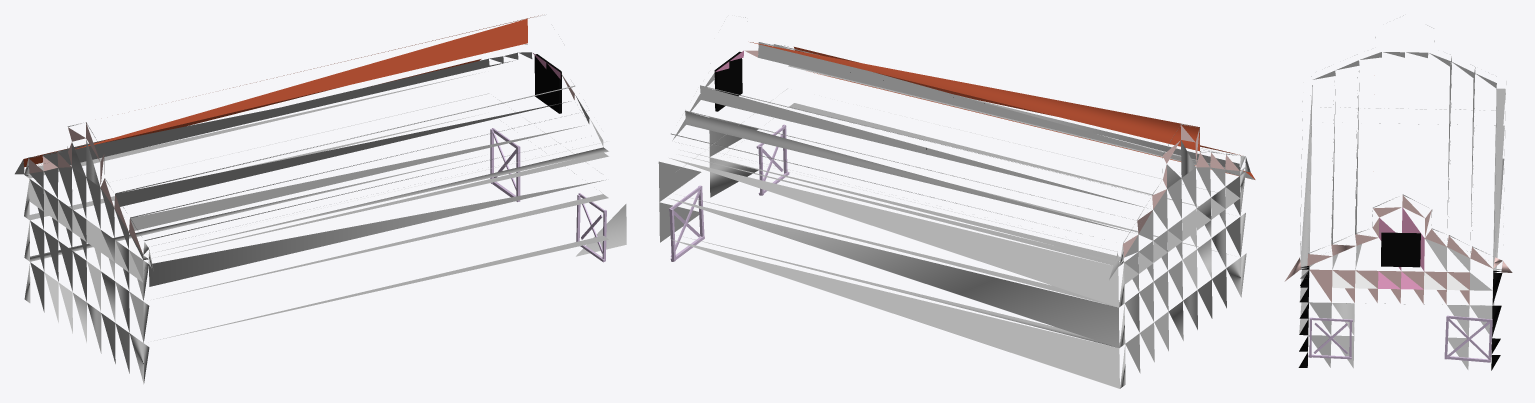
The model's file is barn_1.gltf.
3 views of the same model, side by side, from view 1: azimuth 30°, elevation 25°; view 2: azimuth 150°, elevation 25°; view 3: azimuth 270°, elevation 25° (orthographic). The views are drawn at different scales.
Parts seen in each view (by area): view 1: jajabarn1, Cube; view 2: jajabarn1, Cube; view 3: jajabarn1, Cube.
Boxes of the visible parts, x1,y1,x2,y2 form: jajabarn1: (15,15,626,384); Cube: (534,54,561,113); jajabarn1: (658,17,1255,388); Cube: (714,51,742,111); jajabarn1: (1284,15,1512,370); Cube: (1381,232,1420,267).
Size of the model in its own units: 249 by 105 by 125.
